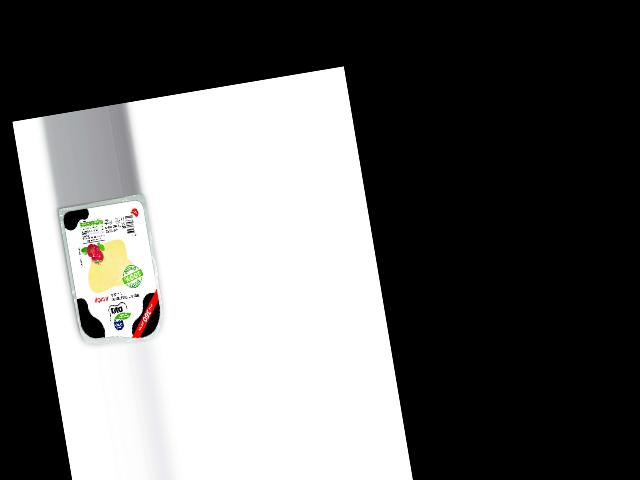cheese: (57, 193, 168, 352)
